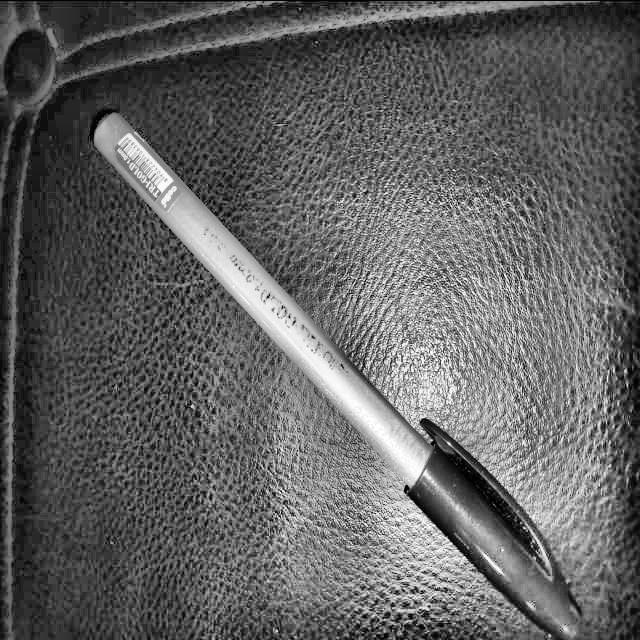Pen: (77, 93, 587, 639)
